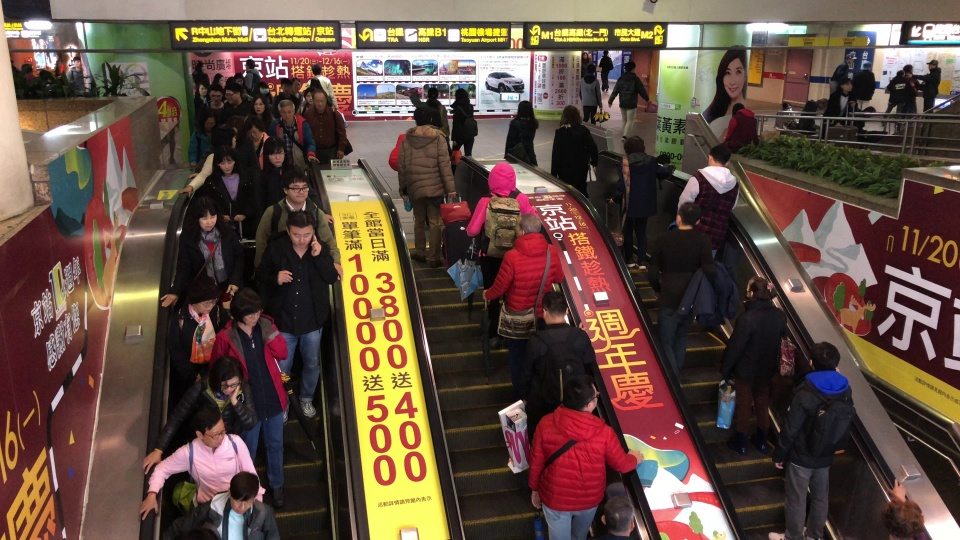person_head: (880, 497, 924, 540), (600, 494, 635, 540), (207, 355, 244, 396), (561, 373, 598, 413), (226, 471, 259, 515), (229, 286, 263, 326), (187, 275, 219, 314), (284, 209, 316, 248), (807, 340, 841, 373), (487, 162, 517, 194), (539, 291, 568, 324), (193, 196, 219, 232), (280, 170, 309, 202), (211, 145, 239, 176), (674, 200, 702, 230), (261, 136, 287, 167), (745, 276, 777, 301), (210, 126, 236, 152), (515, 213, 542, 237), (705, 143, 732, 167), (243, 117, 265, 141), (559, 104, 581, 127), (198, 108, 218, 132), (623, 134, 645, 155), (224, 81, 242, 104), (277, 99, 295, 121), (413, 107, 432, 127), (515, 100, 534, 120), (311, 89, 328, 110), (207, 84, 224, 104), (252, 94, 267, 114), (730, 102, 746, 117), (429, 109, 442, 127), (454, 87, 469, 102), (839, 77, 853, 93), (280, 77, 292, 94), (303, 87, 314, 105), (196, 81, 209, 96), (861, 105, 876, 118), (256, 80, 269, 94), (816, 97, 829, 111), (233, 71, 245, 86), (20, 63, 33, 76), (211, 72, 224, 85), (426, 87, 439, 100), (309, 77, 322, 89), (844, 52, 857, 64), (310, 63, 322, 75), (624, 60, 636, 72), (902, 63, 914, 75), (781, 100, 792, 113), (859, 60, 872, 71), (292, 77, 301, 92), (194, 60, 205, 72), (72, 55, 82, 68), (585, 63, 595, 75), (926, 59, 938, 69), (244, 59, 255, 69), (896, 69, 905, 77), (581, 52, 588, 59), (602, 50, 608, 56)
person_vbox: (526, 373, 645, 540), (765, 340, 856, 540), (208, 286, 289, 509), (253, 209, 338, 421), (481, 213, 564, 402), (137, 403, 265, 521), (643, 200, 719, 386), (465, 161, 539, 349), (142, 355, 257, 475), (717, 276, 788, 457), (517, 290, 596, 452), (251, 170, 343, 283), (395, 107, 457, 268), (160, 196, 246, 307), (608, 133, 675, 269), (165, 276, 232, 404), (162, 471, 282, 540), (677, 143, 739, 261), (256, 136, 334, 223), (200, 144, 257, 240), (550, 104, 599, 199), (177, 127, 236, 198), (269, 98, 320, 172), (607, 61, 651, 143), (301, 89, 347, 163), (879, 69, 917, 132), (504, 99, 538, 167), (820, 76, 856, 140), (405, 87, 450, 136), (722, 102, 759, 154), (186, 108, 218, 167), (195, 84, 236, 129), (449, 87, 475, 157), (839, 105, 887, 142), (305, 63, 339, 110), (578, 63, 603, 126), (192, 403, 226, 448), (243, 116, 270, 171), (914, 59, 941, 113), (828, 52, 858, 96), (428, 108, 452, 159), (272, 77, 301, 119), (852, 60, 876, 110), (797, 97, 829, 134), (221, 82, 252, 116), (902, 63, 918, 125), (243, 94, 276, 124), (772, 99, 797, 130), (309, 76, 333, 107), (65, 55, 84, 93), (251, 80, 274, 110), (598, 49, 614, 92), (243, 58, 260, 93), (193, 80, 210, 114), (192, 60, 210, 89), (297, 87, 314, 116), (19, 63, 38, 84), (292, 77, 305, 101), (581, 51, 590, 77)
